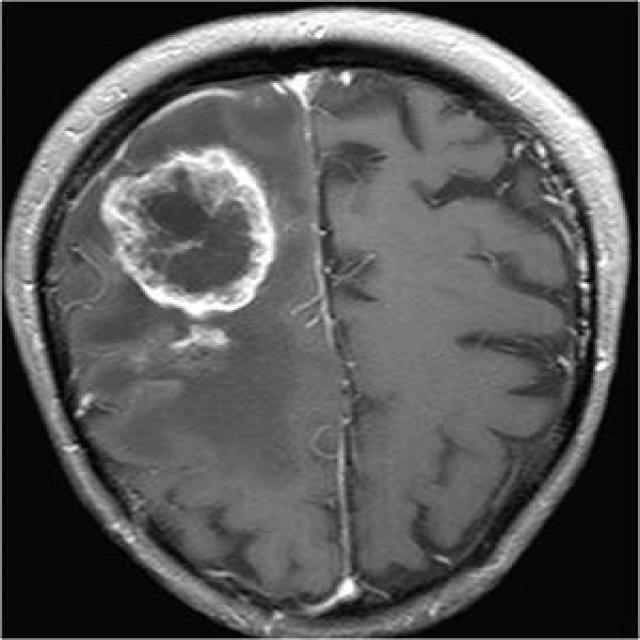Tumor: (96, 140, 276, 330)
